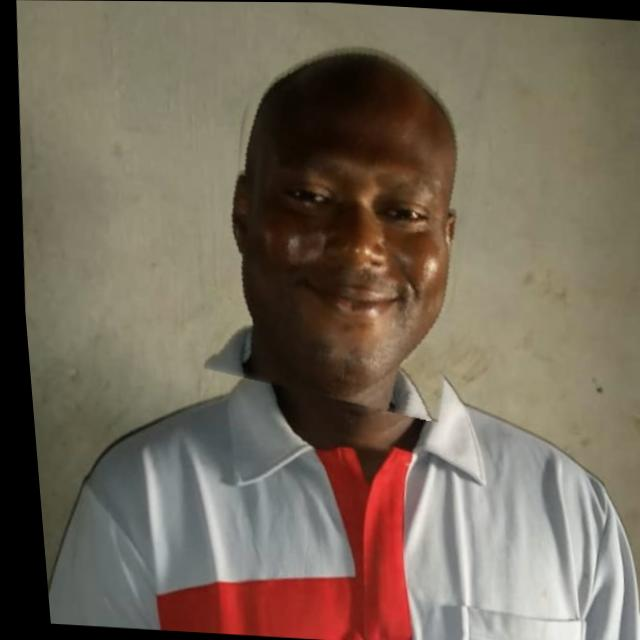happy: (189, 21, 500, 417)
